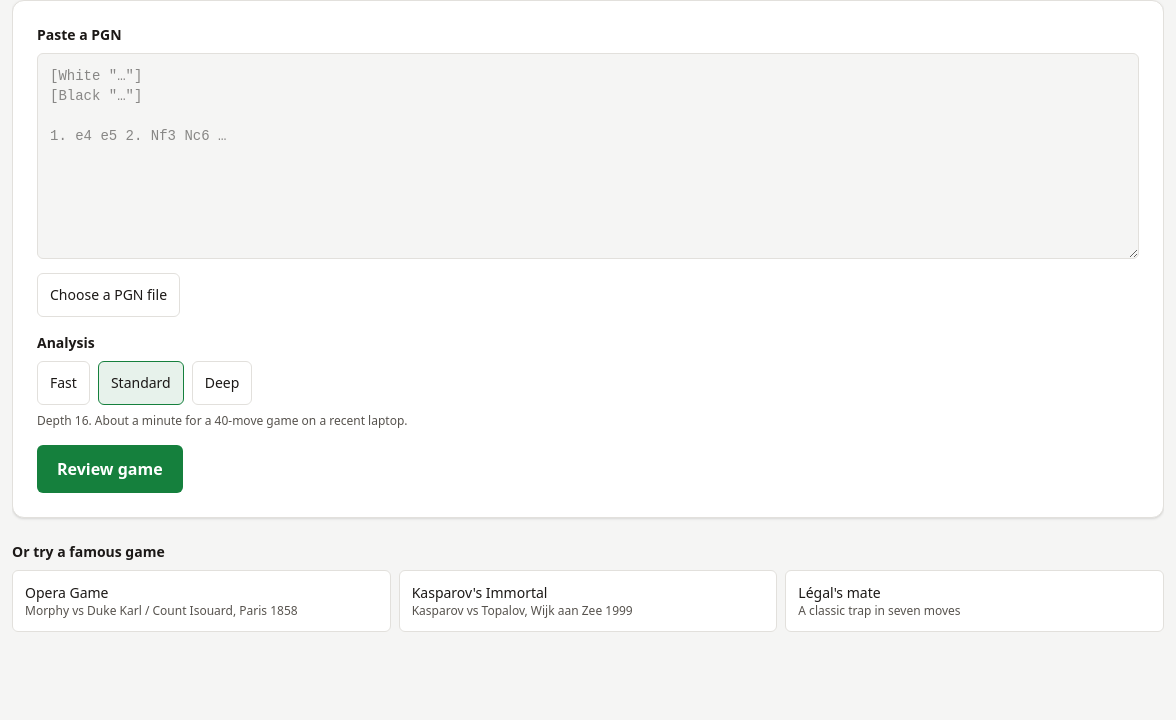
HomeClient › names the illegal move and does not start a review
The image size is (1176, 720).
Type "1. e4 e5 2. Ke3" into the text box labelled "Paste a PGN" at (588, 156), box top-left (37, 53), bottom-right (1139, 259)
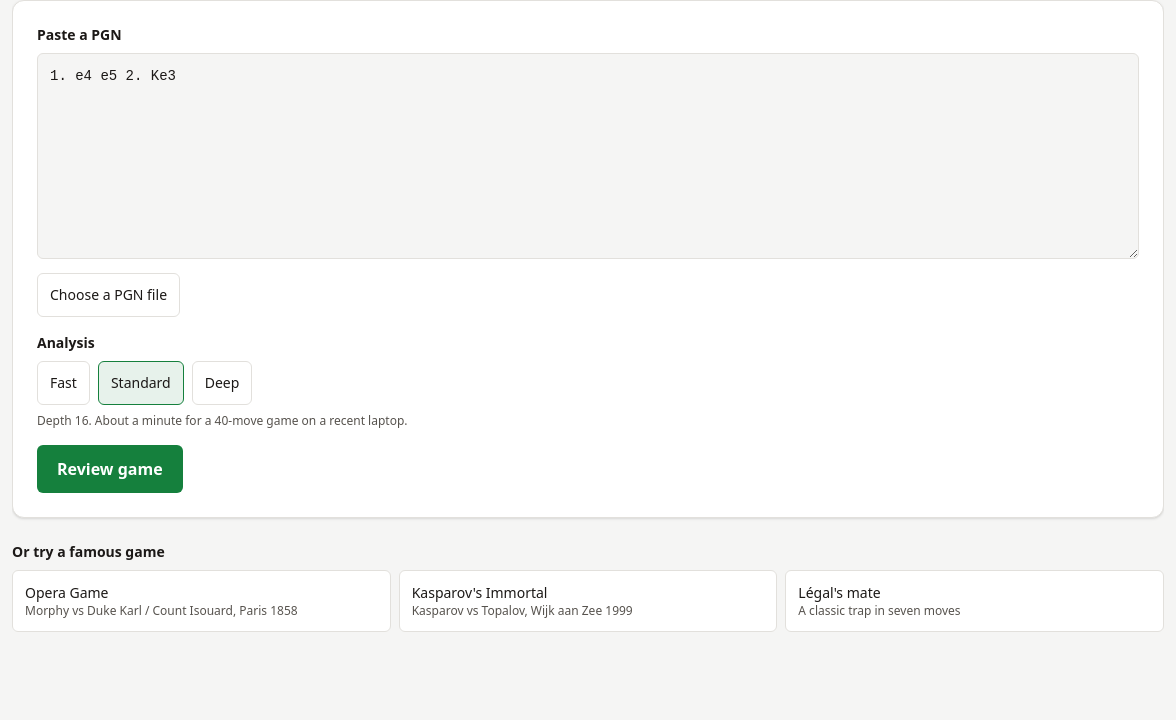
Click the button "Review game" at (110, 469), box top-left (37, 445), bottom-right (183, 493)
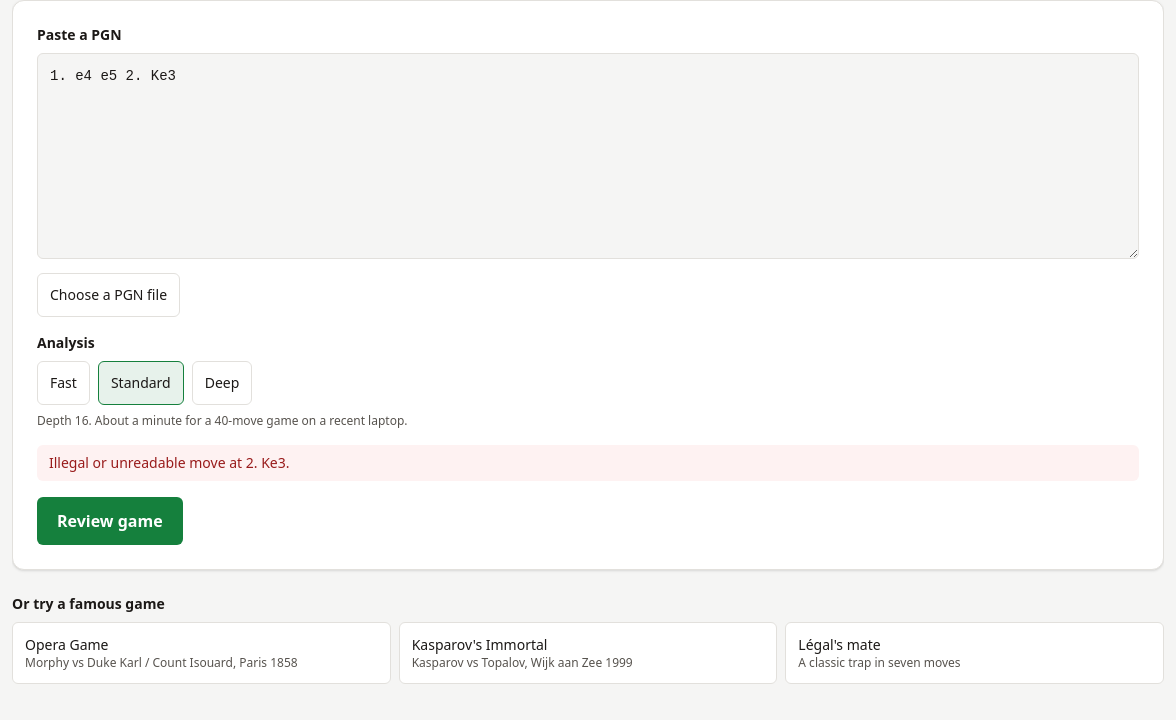
Check: the message shows "2. Ke3", box top-left (49, 453), bottom-right (290, 472)
